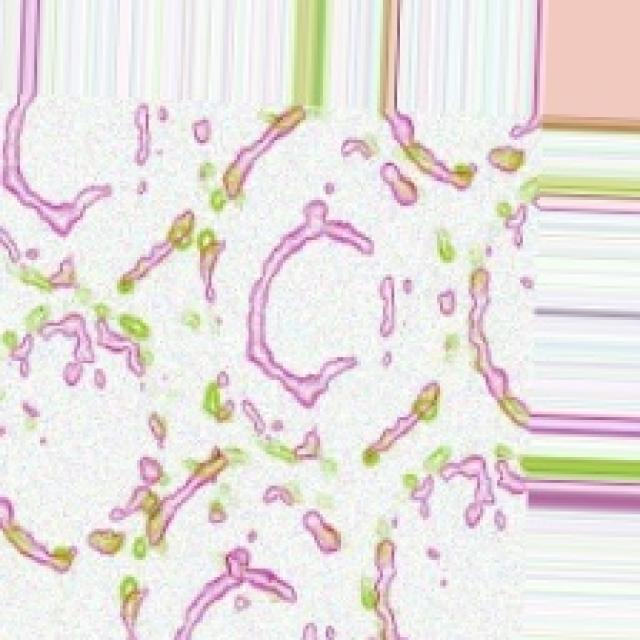Spiral_bacteria: (0, 0, 551, 637)
